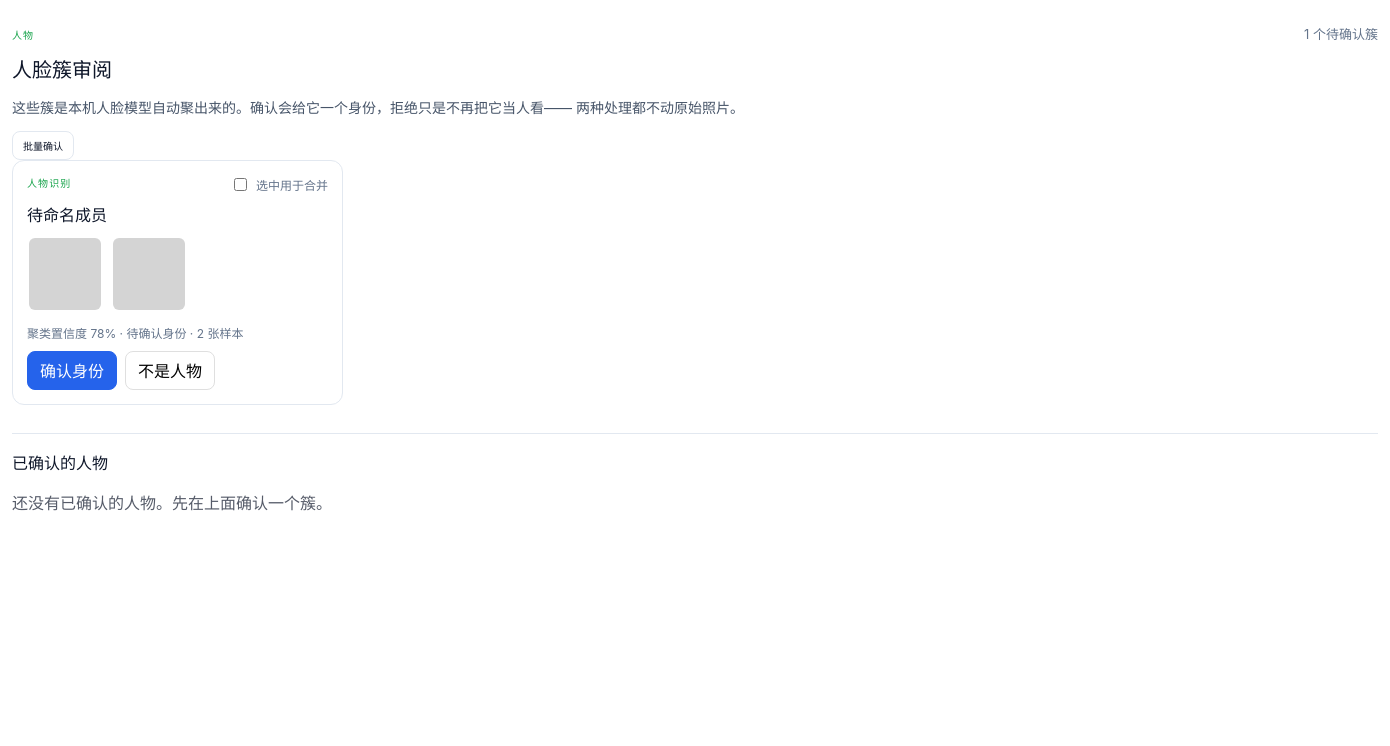
人脸簇审阅页 › 后端报 invalid_request 时把中文文案显示在页面上
Click the button "确认身份". click: coordinates (72, 370)
box: left=27, top=351, right=117, bottom=390
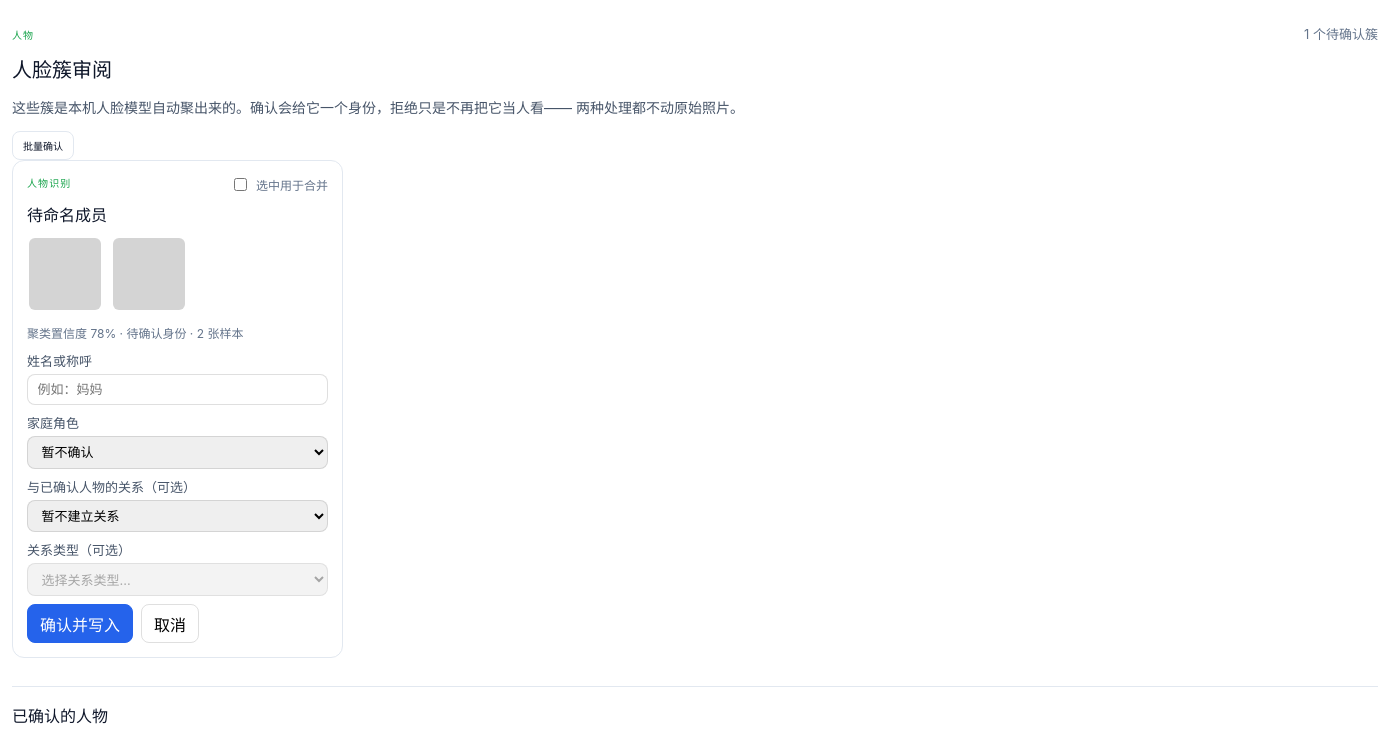
Click the button "确认并写入". click: coordinates (80, 624)
box: left=27, top=604, right=133, bottom=643
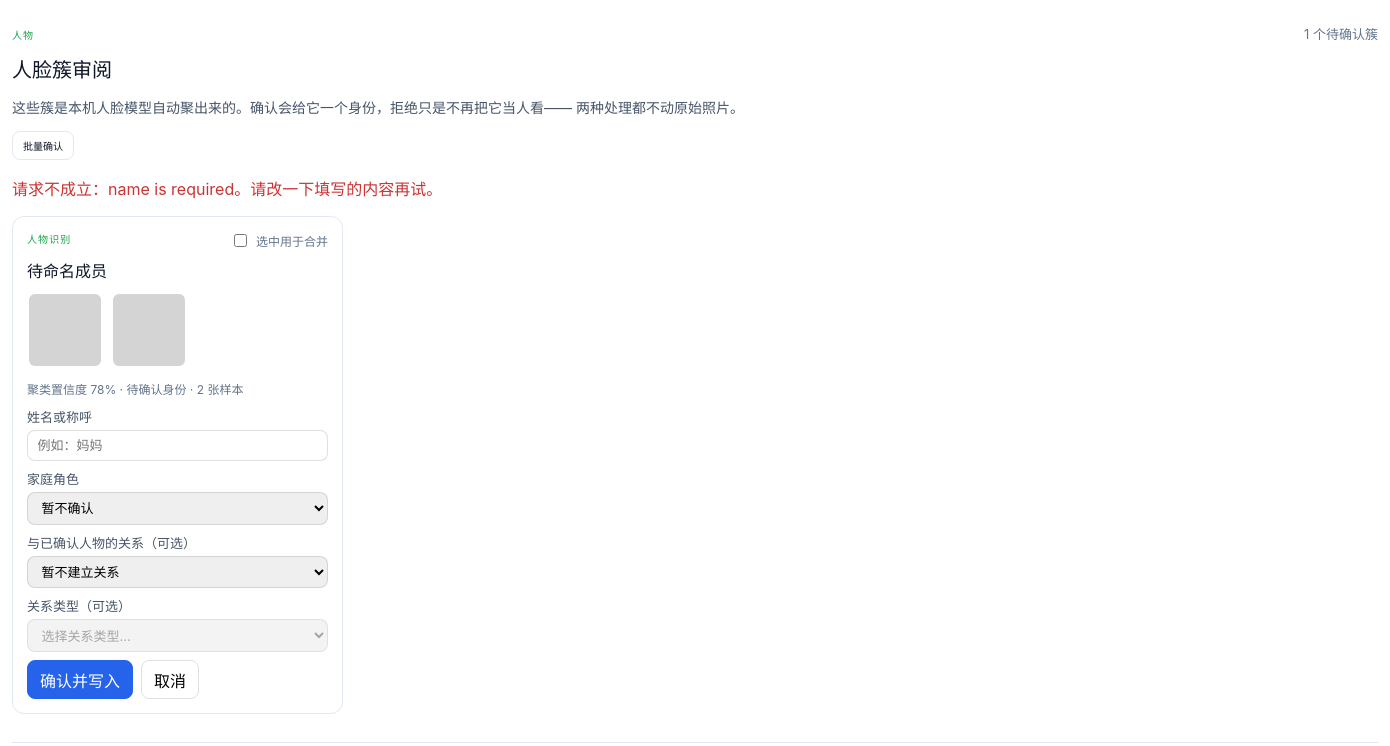
Expected: the message shows "请求不成立", left=12, top=179, right=442, bottom=199
Expected: the message shows "name is required", left=12, top=179, right=442, bottom=199
